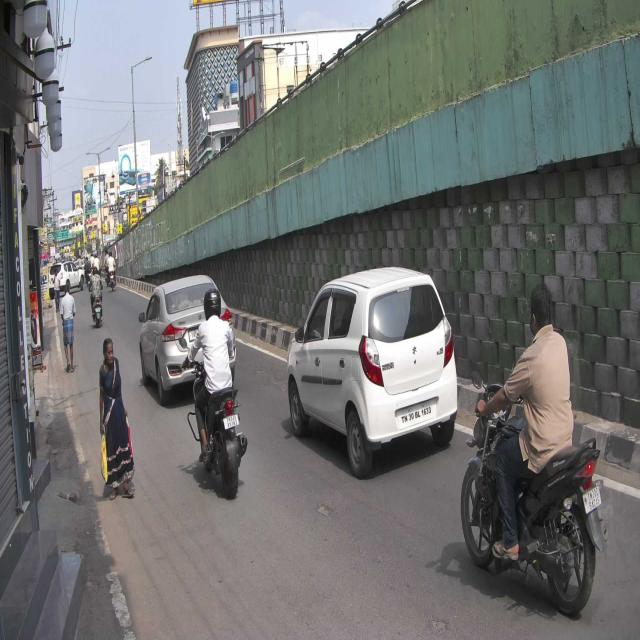single_rider: (461, 281, 610, 614), (180, 282, 248, 503)
